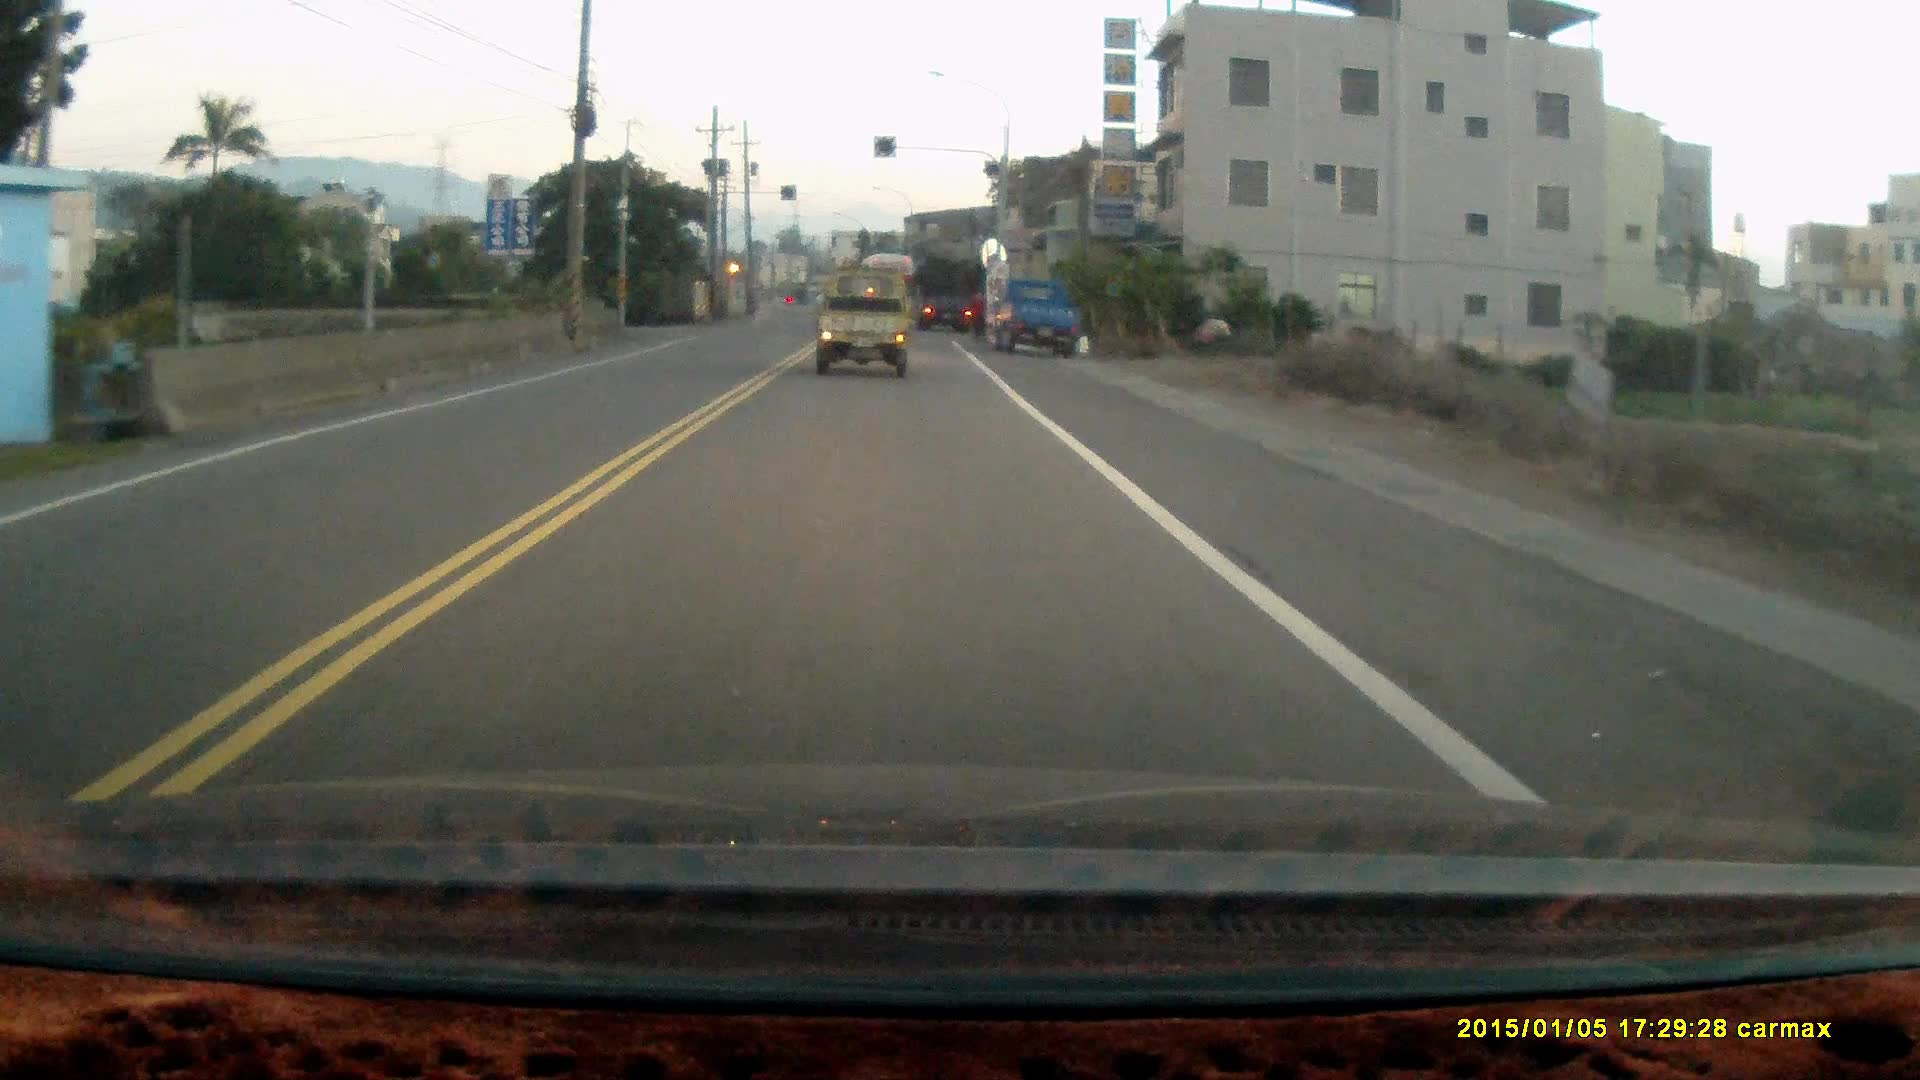vehicle: (812, 272, 916, 386), (988, 273, 1096, 359), (916, 256, 989, 338)
